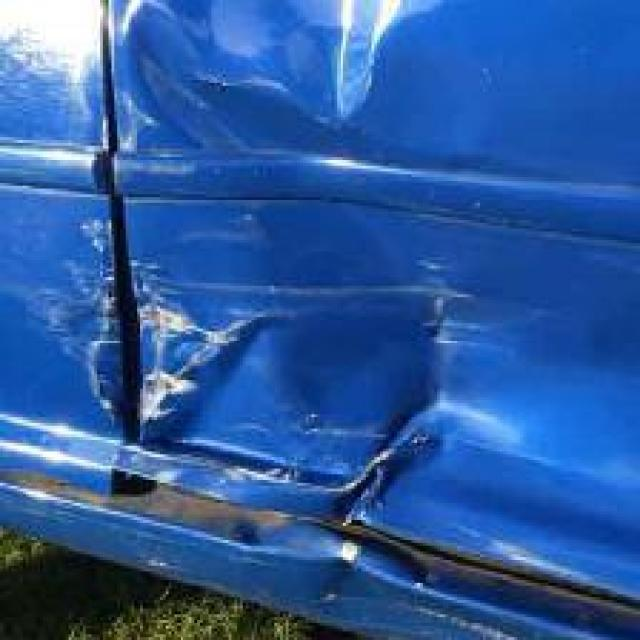damaged: (31, 217, 512, 560), (74, 6, 440, 163)
